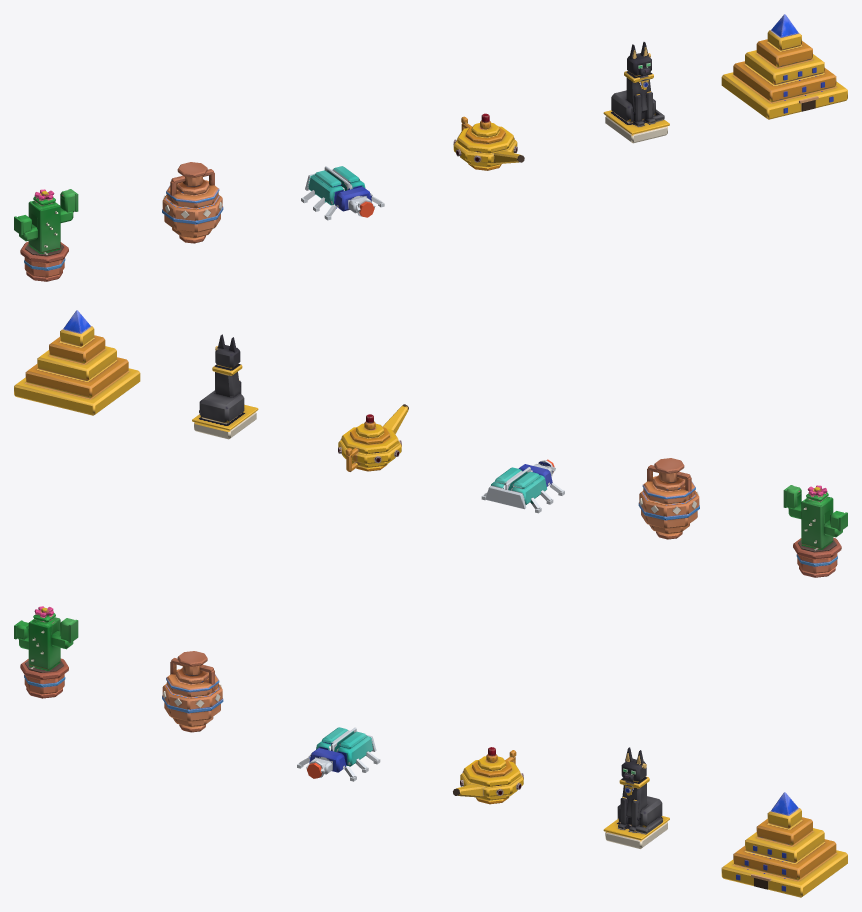
The model's file is Objets_Desert_Rig.fbx.
3 views of the same model, one above another, from view 1: azimuth 30°, elevation 25°; view 2: azimuth 150°, elevation 25°; view 3: azimuth 330°, elevation 25° (orthographic).
Parts seen in each view (by area): view 1: Pyramide, Cactus, Cruche, ChatSacre, Lampe, Scarabee; view 2: Pyramide, Cactus, Cruche, ChatSacre, Lampe, Scarabee; view 3: Pyramide, Cactus, Cruche, ChatSacre, Lampe, Scarabee.
Part boxes in pixels (x1,y1,x2,y2): Pyramide: (721,14,847,119); Cactus: (14,189,78,281); Cruche: (162,162,223,243); ChatSacre: (603,42,669,143); Lampe: (453,113,524,170); Scarabee: (301,166,384,220); Pyramide: (14,310,140,415); Cactus: (783,485,847,577); Cruche: (638,458,699,539); ChatSacre: (192,334,258,439); Lampe: (338,404,408,471); Scarabee: (481,459,564,513); Pyramide: (721,792,847,897); Cactus: (14,606,78,698); Cruche: (162,651,223,732); ChatSacre: (603,747,669,848); Lampe: (453,747,523,804); Scarabee: (297,727,380,781).
Size of the model in its own units: 57.45 by 6 by 7.28.
1 material, 1 textured.
